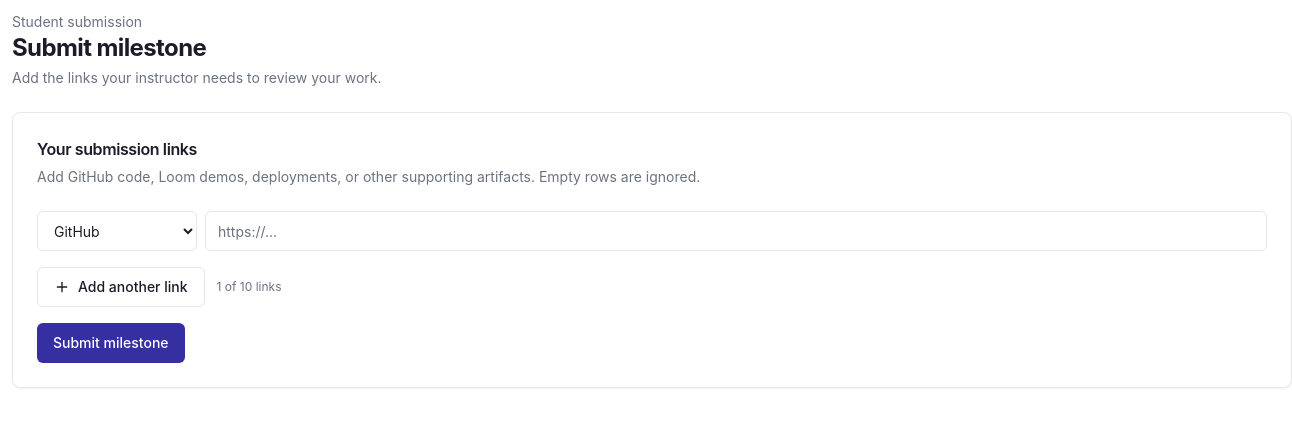
SubmitMilestonePage › rejects an invalid github link
Select "GitHub" in the dropdown named "Link 1 type". click: [117, 231]
box: [37,211,197,251]
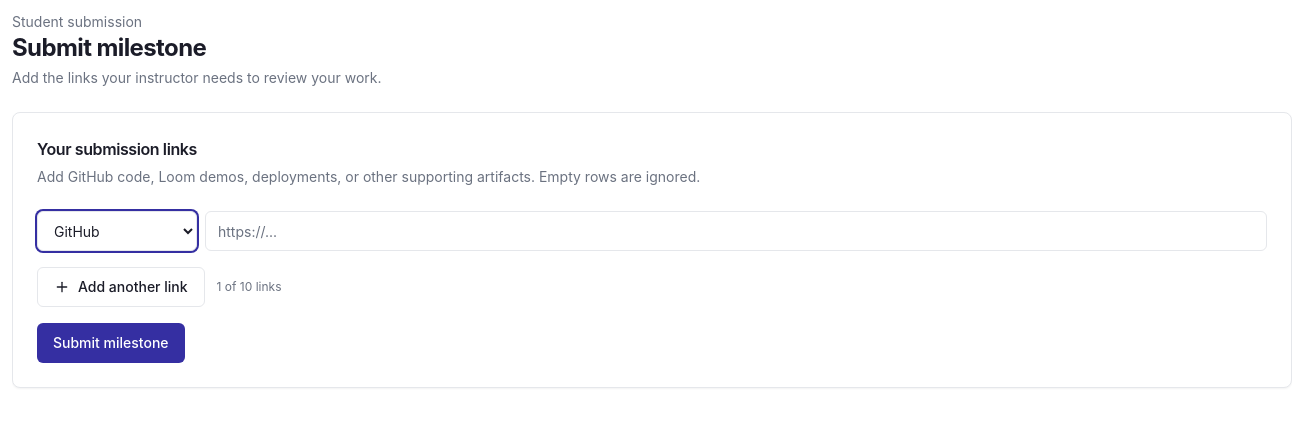
Type "https://example.com/repository" into the field named "Link 1 URL". click: [736, 231]
box: [205,211,1267,251]
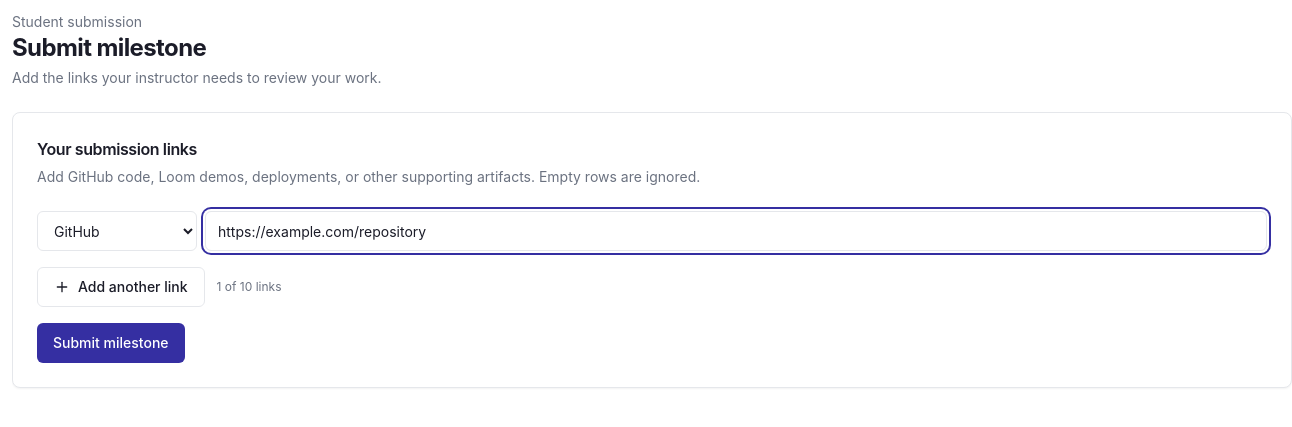
Click the button "Submit milestone". click: [111, 343]
box: [37,323,185,363]
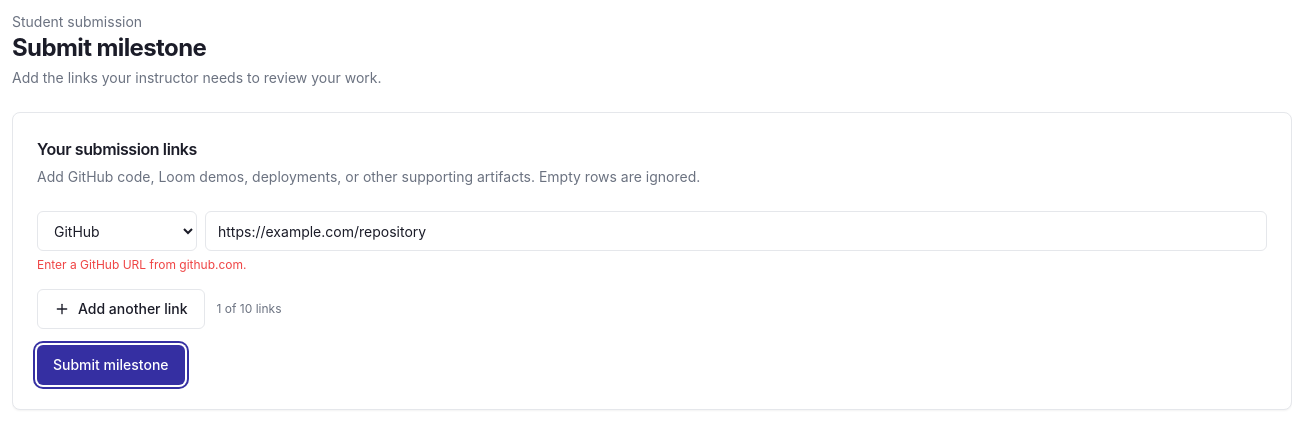
Now the text "Enter a GitHub URL from github.com." is shown, box [37,257,246,272]
